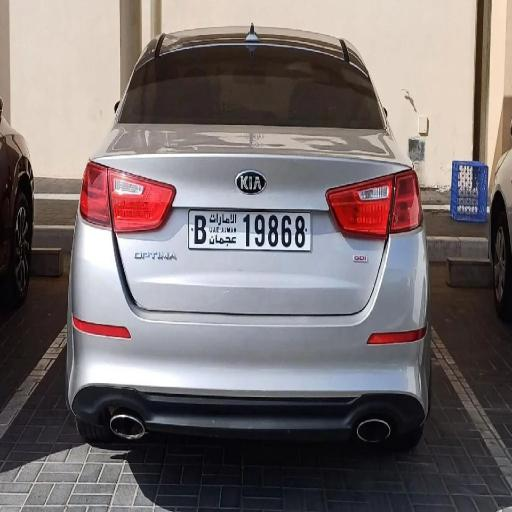license-plates: (188, 211, 311, 251)
